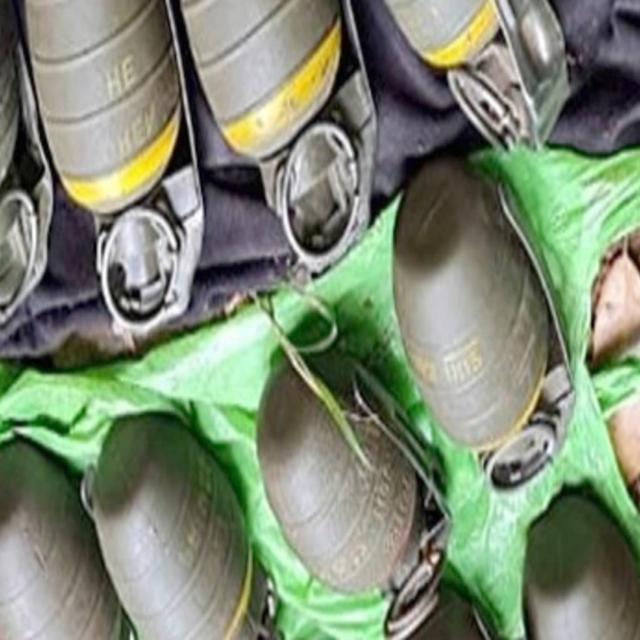grenade: (391, 163, 576, 500), (25, 2, 206, 338), (258, 346, 452, 640), (176, 2, 379, 275), (84, 411, 286, 640), (370, 2, 573, 158), (1, 437, 133, 640), (1, 2, 61, 335), (526, 490, 640, 639)
